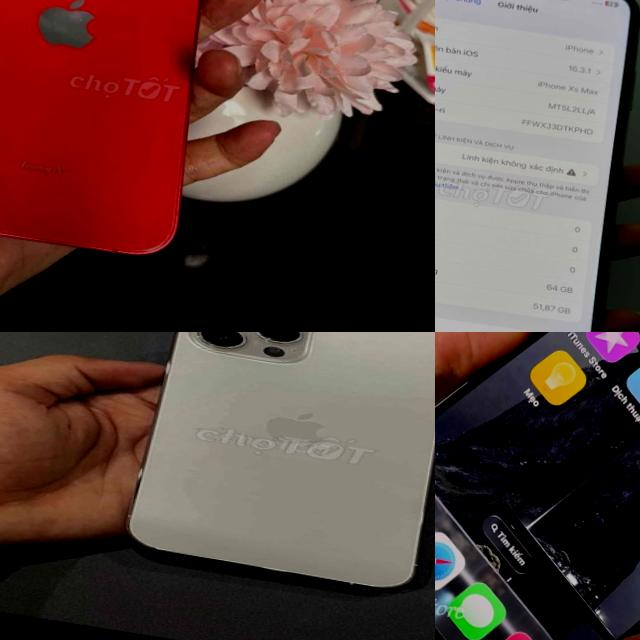gen_11: (0, 0, 243, 270)
gen_12_13: (119, 332, 435, 605)
gen_15: (435, 332, 640, 640)
gen_x_xs: (435, 0, 639, 332)
